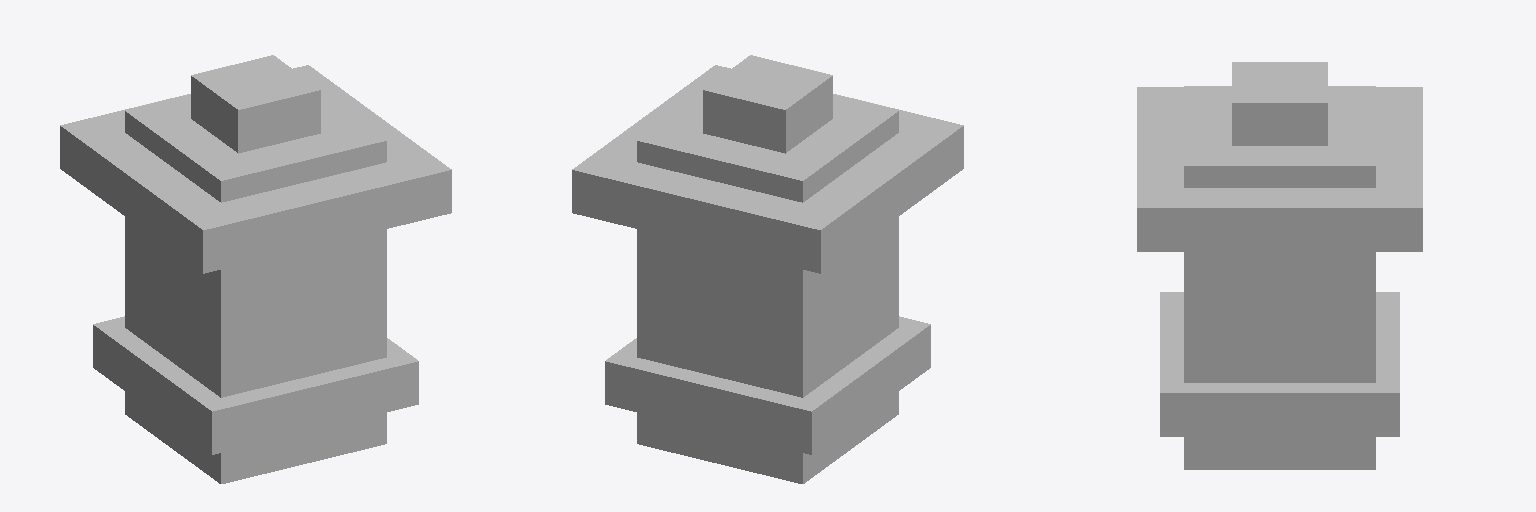
File: e_lantern.obj
3 renders of one model, left to right at view 1: azimuth 30°, elevation 25°; view 2: azimuth 150°, elevation 25°; view 3: azimuth 270°, elevation 25°, orthographic.
Visible parts, largest first — view 1: base, off; view 2: base, off; view 3: base, off.
Boxes of the visible parts, x1=… form: base: x1=60, y1=55, x2=451, y2=483; off: x1=125, y1=217, x2=386, y2=397; base: x1=572, y1=55, x2=963, y2=483; off: x1=637, y1=217, x2=898, y2=397; base: x1=1137, y1=62, x2=1422, y2=469; off: x1=1184, y1=252, x2=1375, y2=382.
Bounding box in the file's own units: 0.75 × 1 × 0.75.